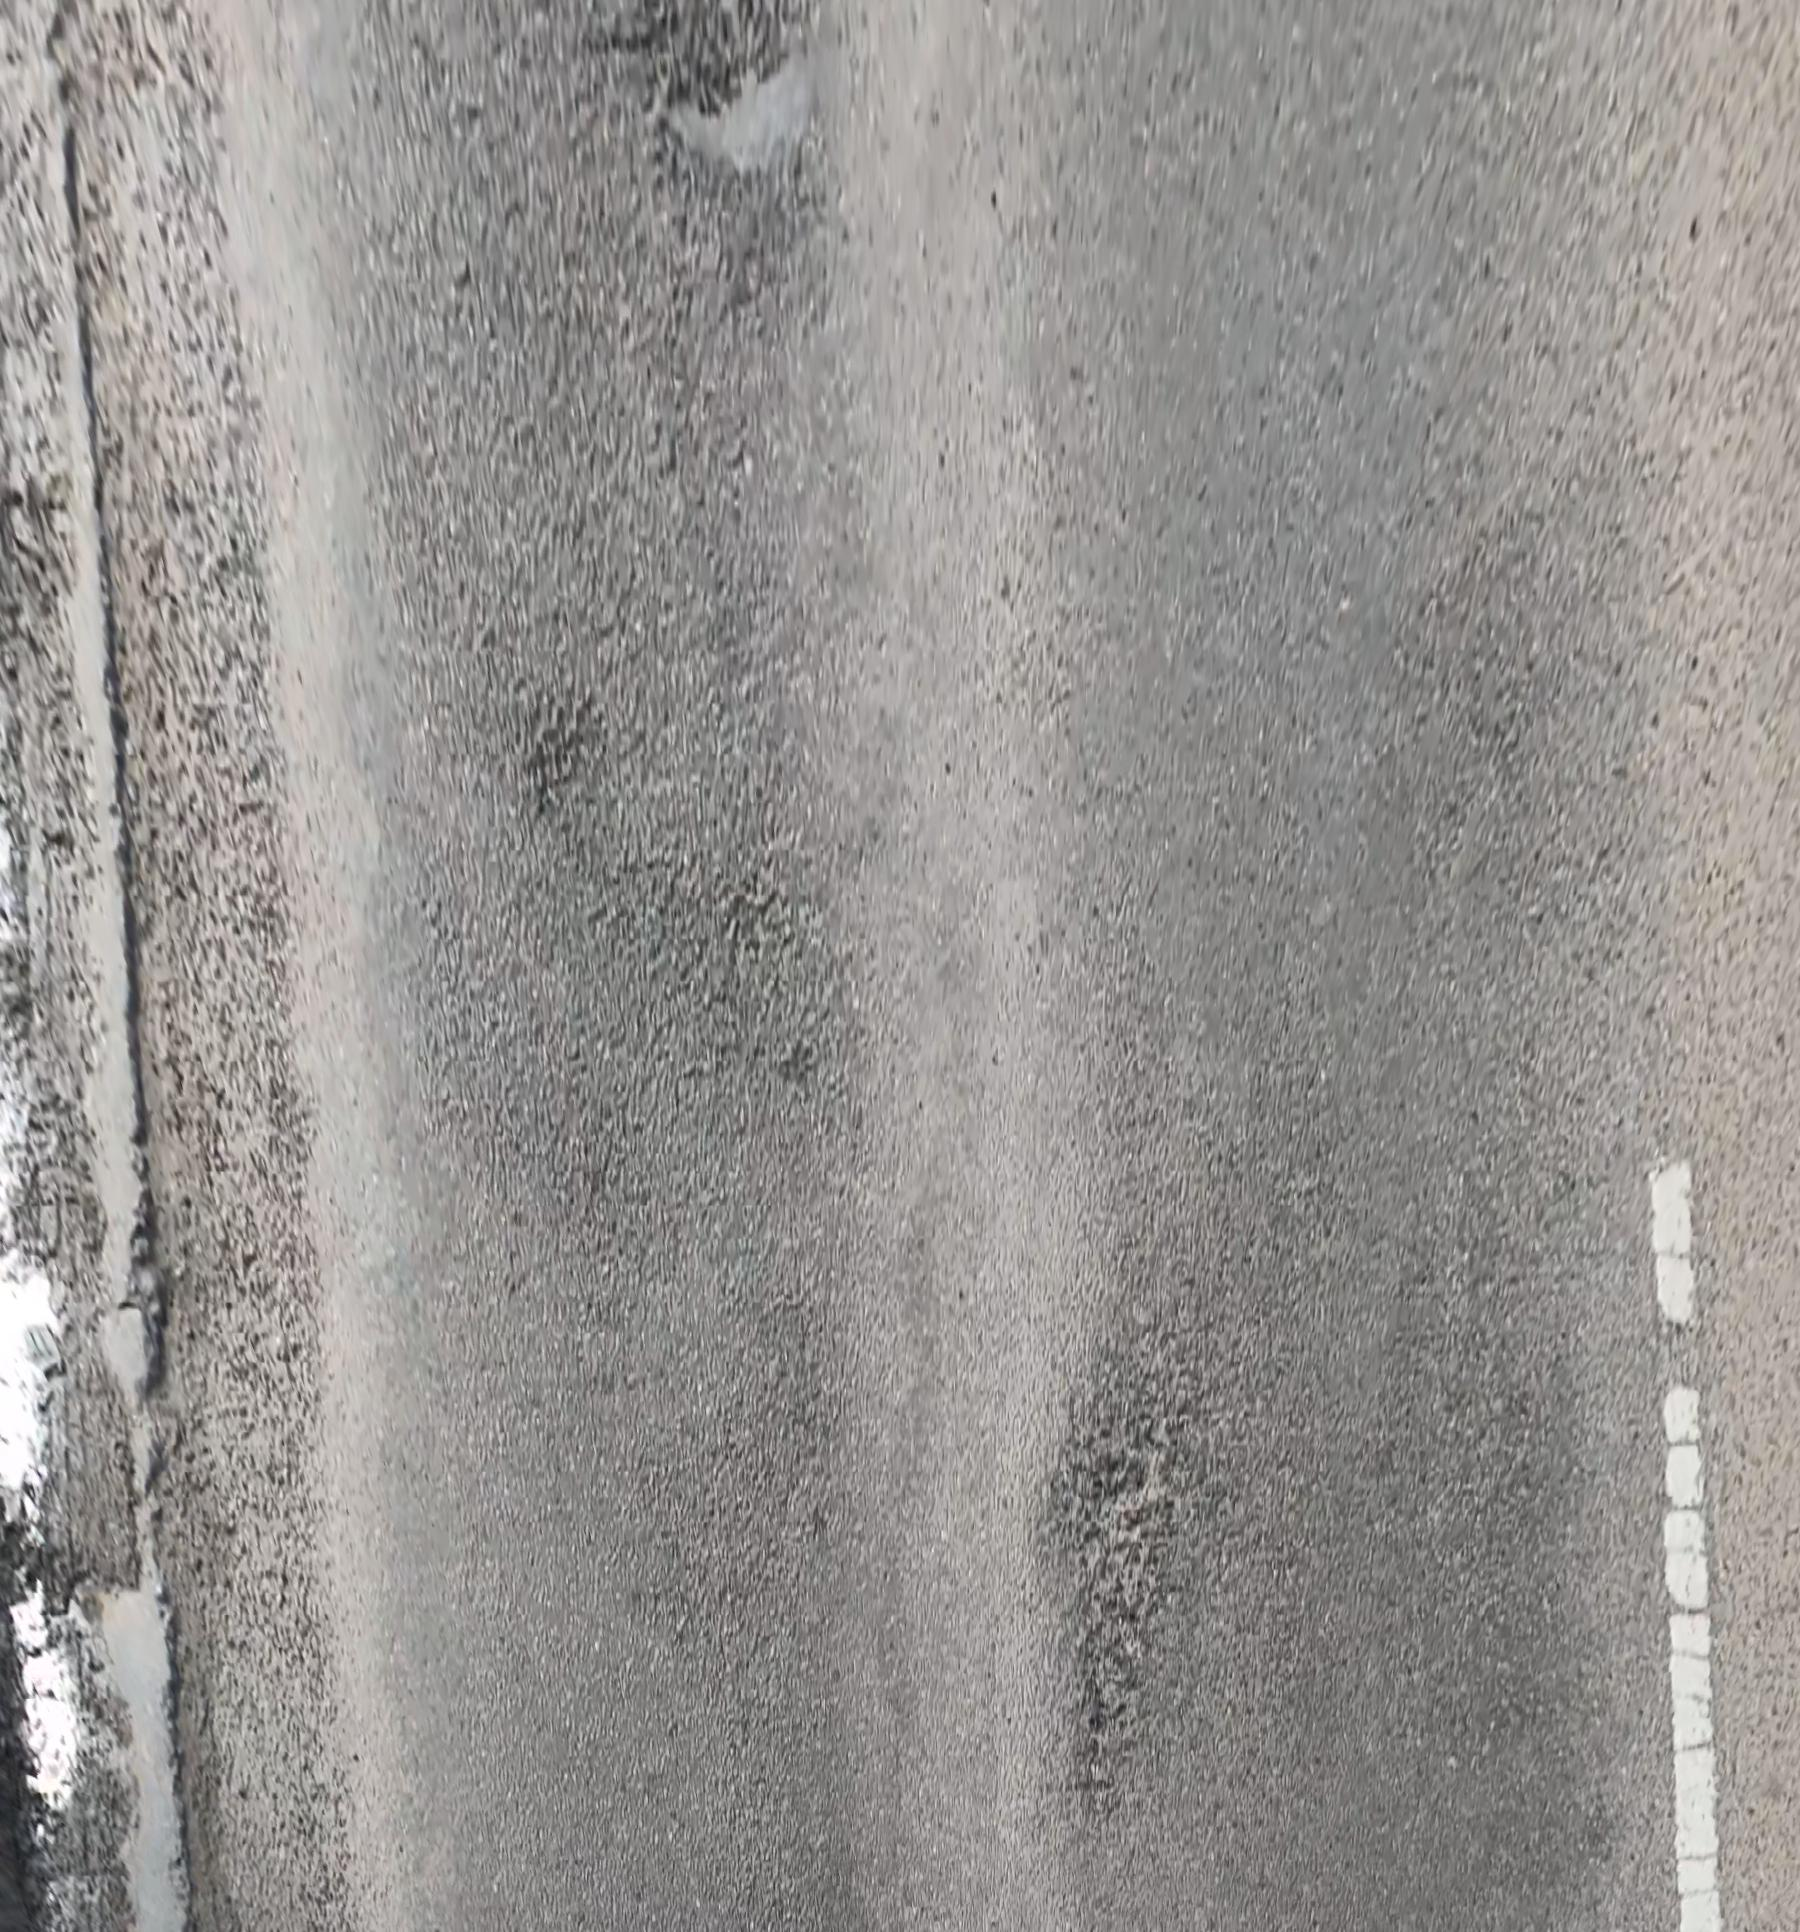pothole: (648, 54, 817, 181)
